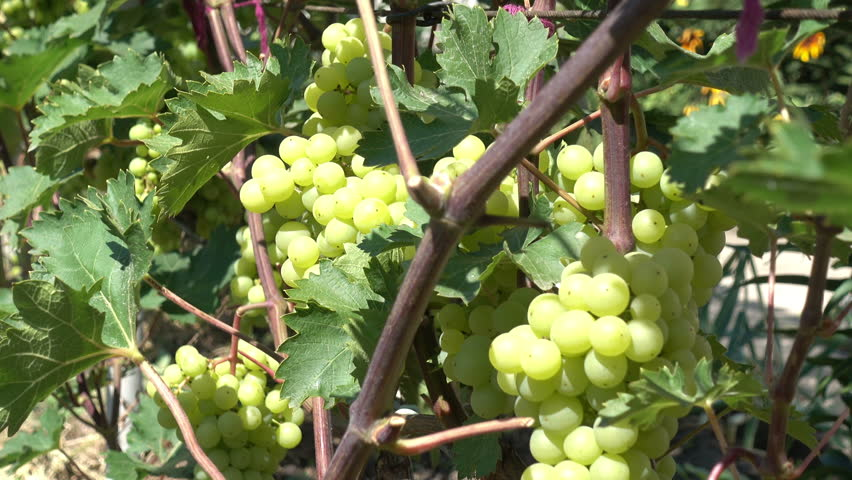grapes: (446, 267, 747, 480), (216, 130, 409, 316), (152, 334, 315, 476), (557, 134, 746, 256), (302, 17, 413, 139)
